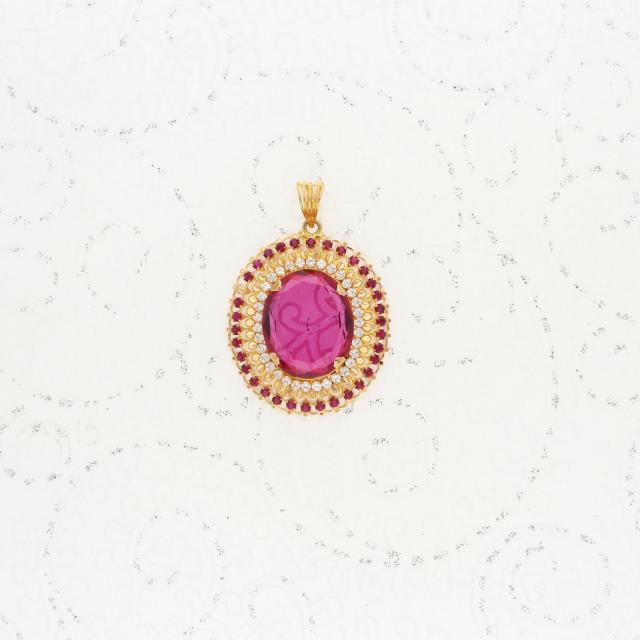missing gem: (237, 285, 249, 294)
